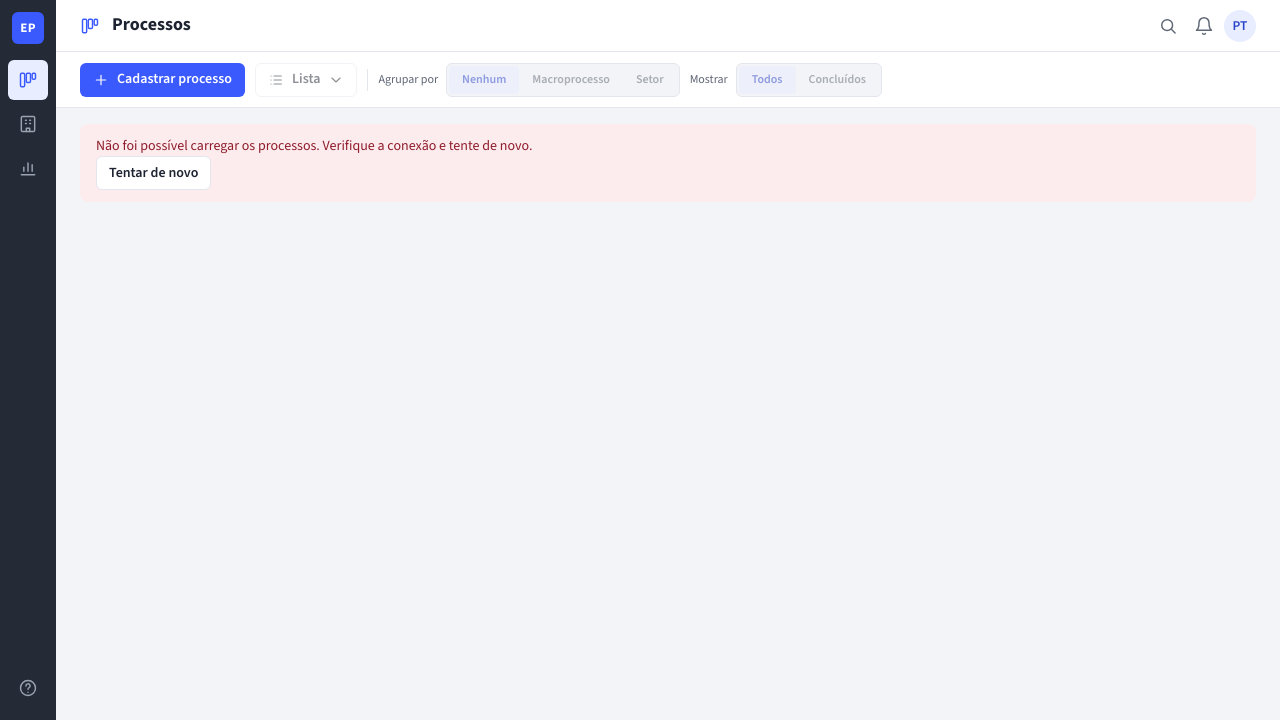
Scenario: erro ao carregar: a mensagem e [Tentar de novo], que carrega de novo
This screenshot has width=1280, height=720.
Check: the message shows "Não foi possível carregar os processos. Verifique a conexão e tente de novo.", box top-left (80, 124), bottom-right (1256, 202)
Click the button "Tentar de novo" at coordinates (154, 173), box top-left (96, 156), bottom-right (211, 190)
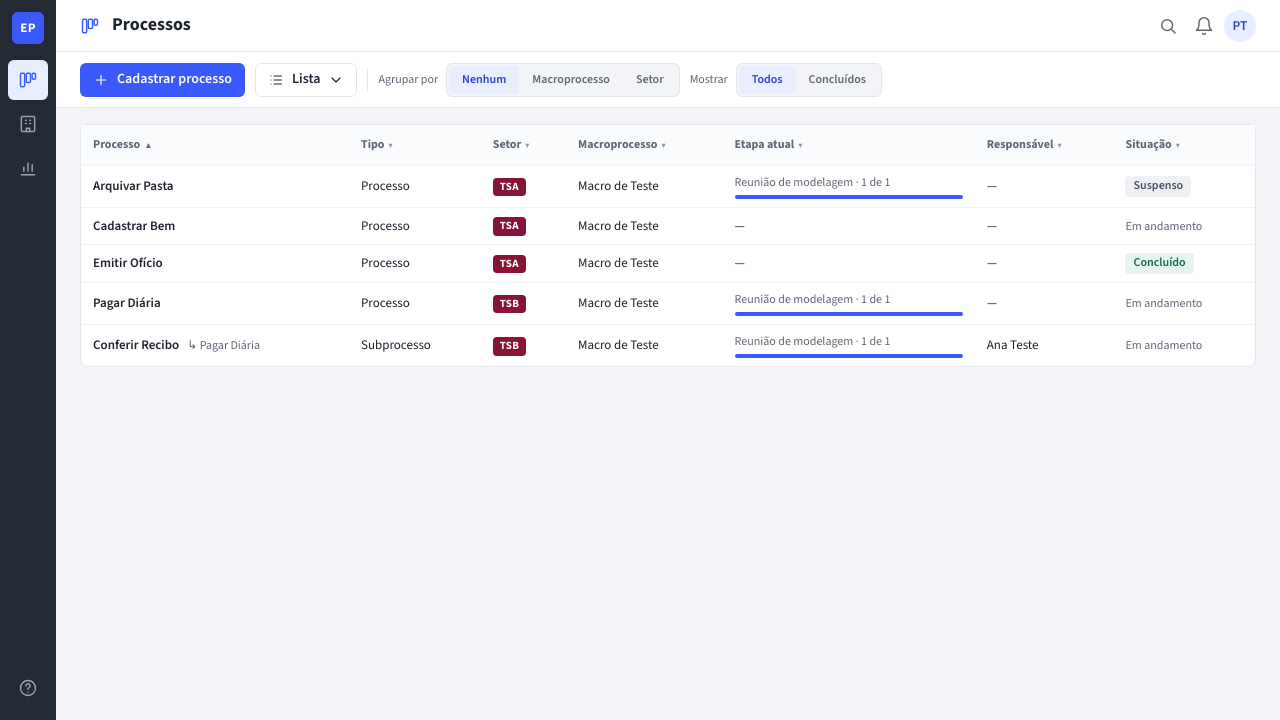
Check: the table is shown, box top-left (80, 124), bottom-right (1256, 368)
